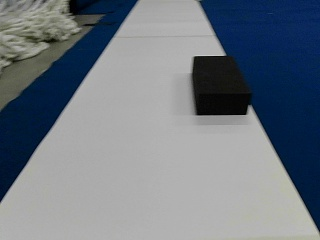block: (191, 55, 250, 114)
